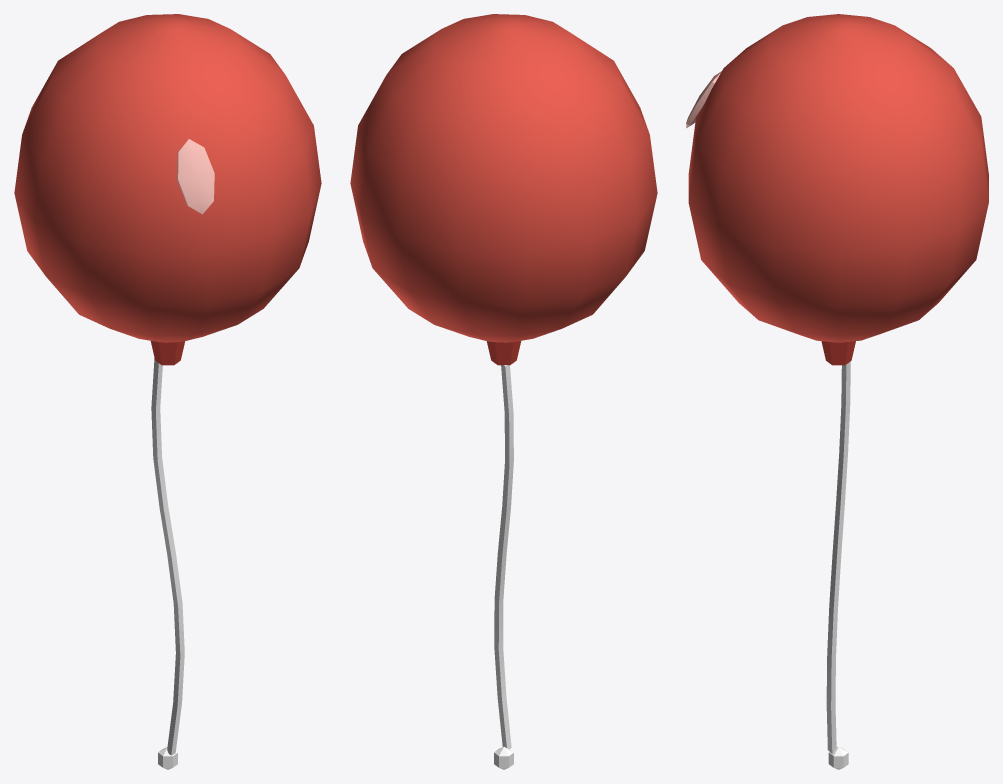
File: record-balloon.glb
3 views of the same model, side by side, from view 1: azimuth 30°, elevation 25°; view 2: azimuth 150°, elevation 25°; view 3: azimuth 270°, elevation 25° (orthographic).
Parts seen in each view (by area): view 1: record-balloon; view 2: record-balloon; view 3: record-balloon.
Boxes of the visible parts, x1=… form: record-balloon: x1=14, y1=14, x2=321, y2=769; record-balloon: x1=350, y1=14, x2=657, y2=769; record-balloon: x1=686, y1=14, x2=988, y2=769.
Bounding box in the file's own units: 1.2 × 3.2 × 1.18.
